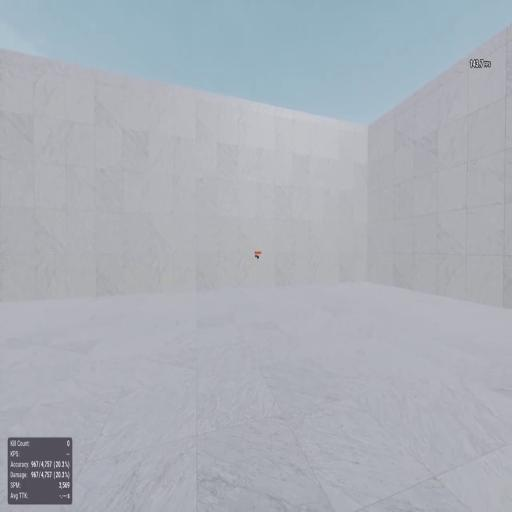Crosshair: (255, 254, 257, 258)
Target: (257, 255, 259, 259)
